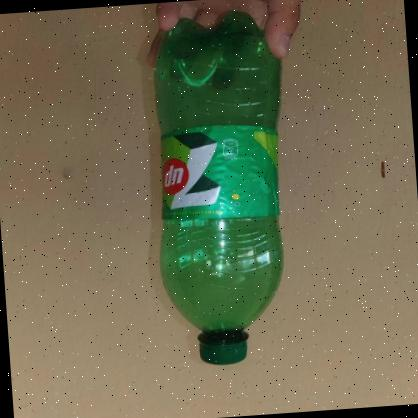bottle: (136, 14, 302, 377)
cap: (191, 330, 254, 370)
label: (156, 119, 281, 228)
